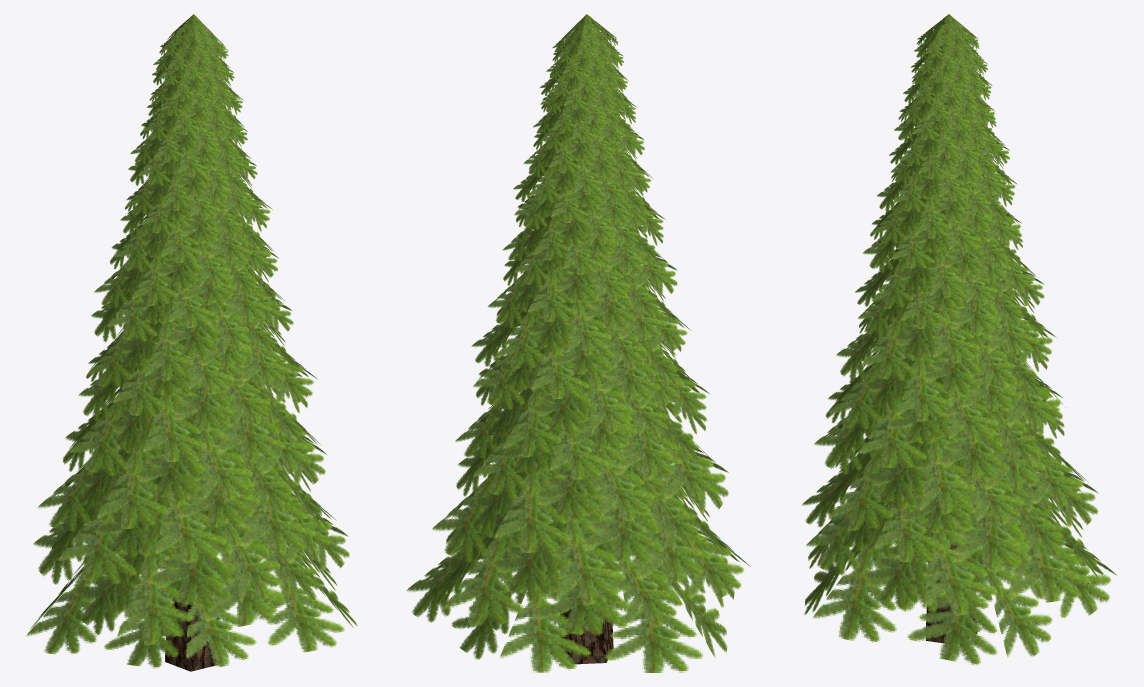
File: tree.glb
3 views of the same model, side by side, from view 1: azimuth 30°, elevation 25°; view 2: azimuth 150°, elevation 25°; view 3: azimuth 270°, elevation 25° (orthographic). The views are drawn at different scales.
Visible parts, largest first — view 1: Cone.001; view 2: Cone.001; view 3: Cone.001.
Boxes of the visible parts, box(x1,y1,x2,y2) form: Cone.001: box(26, 14, 357, 671); Cone.001: box(406, 14, 749, 672); Cone.001: box(801, 14, 1117, 665).
Bounding box in the file's own units: 6.25 × 12.01 × 5.94.
2 materials, 2 textured.
